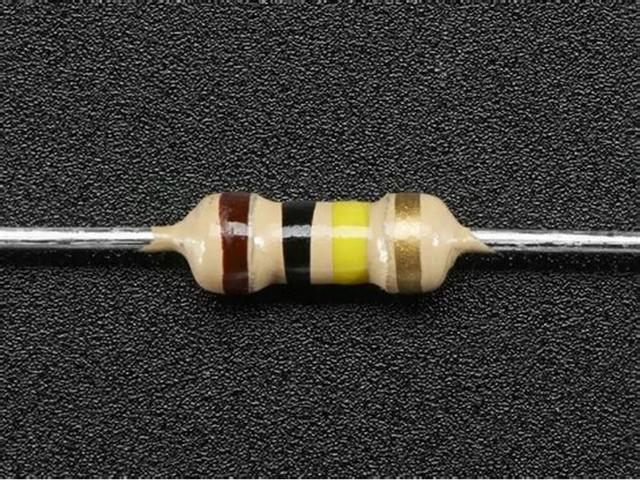black: (282, 201, 315, 284)
brown: (221, 195, 251, 294)
gold: (395, 192, 422, 295)
resistor: (147, 187, 484, 298)
yellow: (333, 202, 367, 281)
